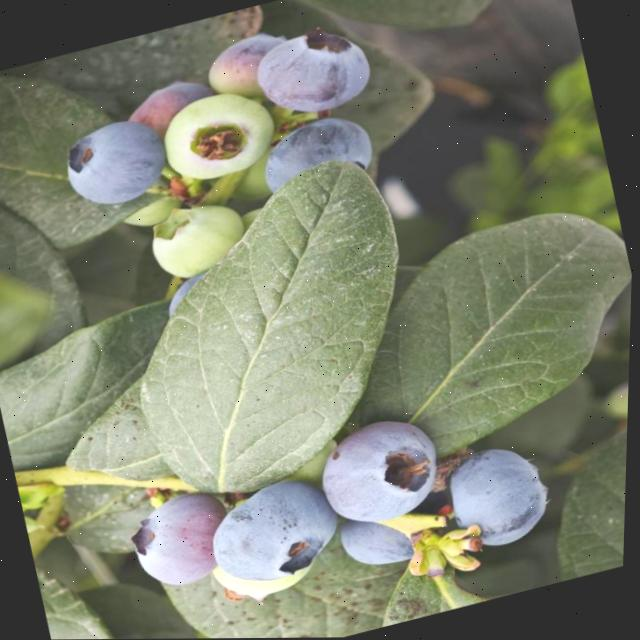RipeBlueBerry: (202, 470, 351, 594), (447, 439, 562, 552), (252, 20, 378, 123), (254, 107, 384, 202), (56, 110, 174, 212), (122, 487, 232, 594)
UnripeBlueBerry: (313, 411, 454, 530), (149, 82, 282, 188), (140, 191, 257, 283)
